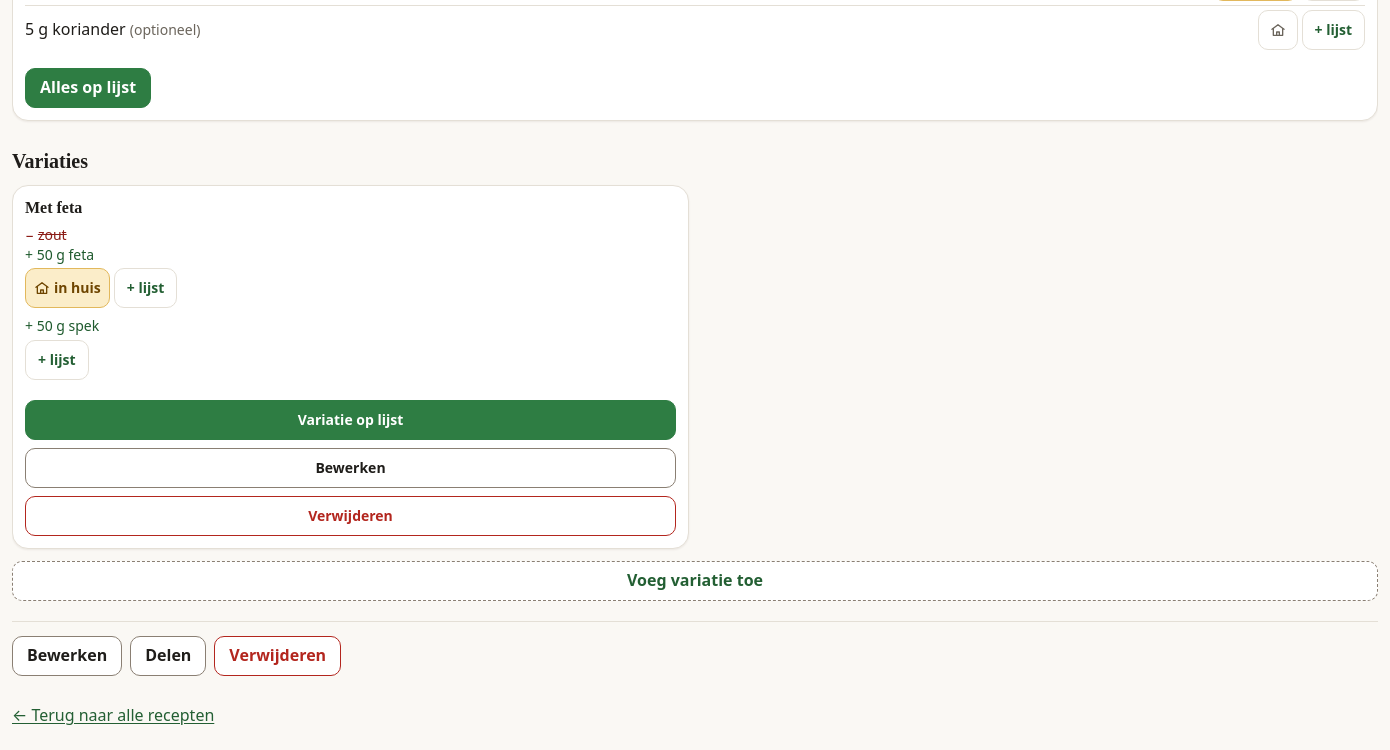
Test case: In huis op de receptpagina › "Variatie op lijst" slaat in-huis-regels en -toevoegingen over
This screenshot has width=1390, height=750.
(page scrolled)
Expected: the button with class "house-button" below "+ 50 g feta" reads "in huis", [25, 268, 110, 308]
Click the button with class "add-to-list" at (350, 420), box [25, 400, 676, 440]
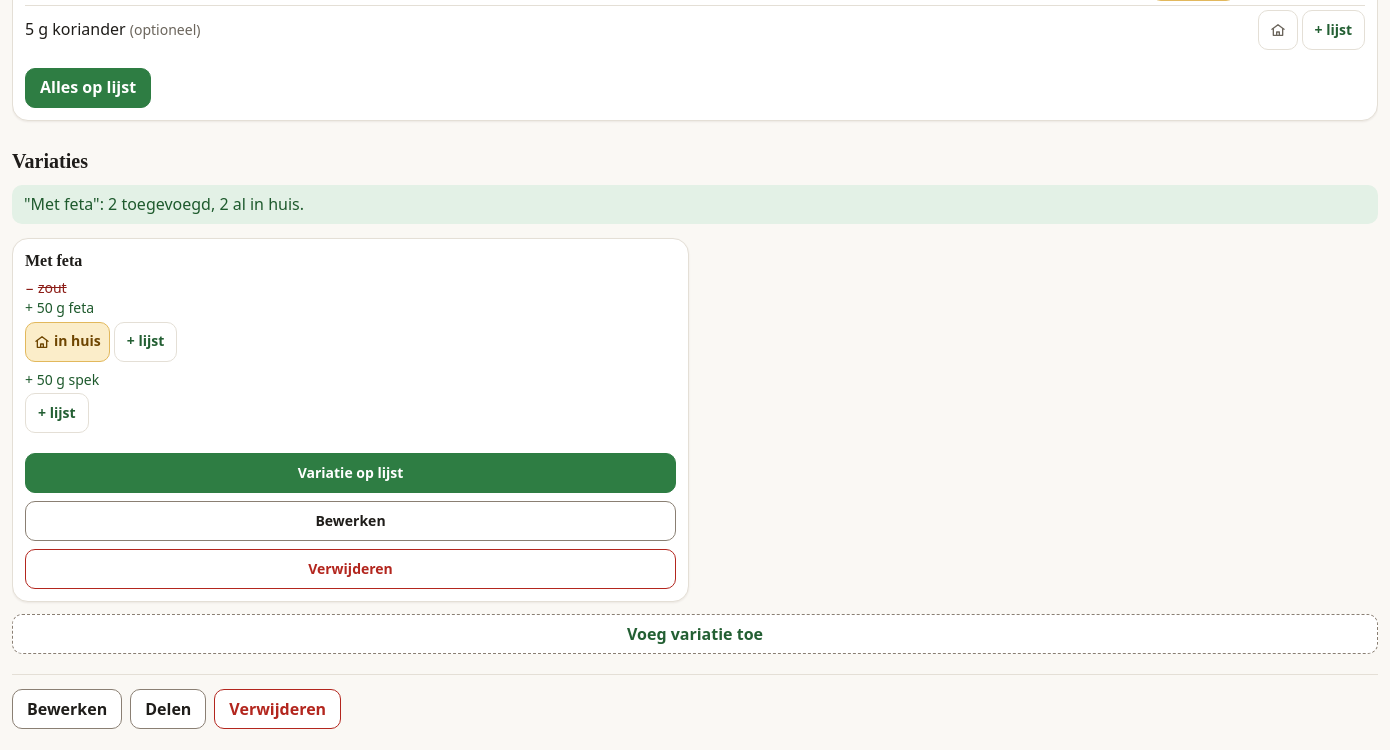
Now the message with class "notice-success" reads "\"Met feta\": 2 toegevoegd, 2 al in huis.", box [24, 193, 304, 215]
